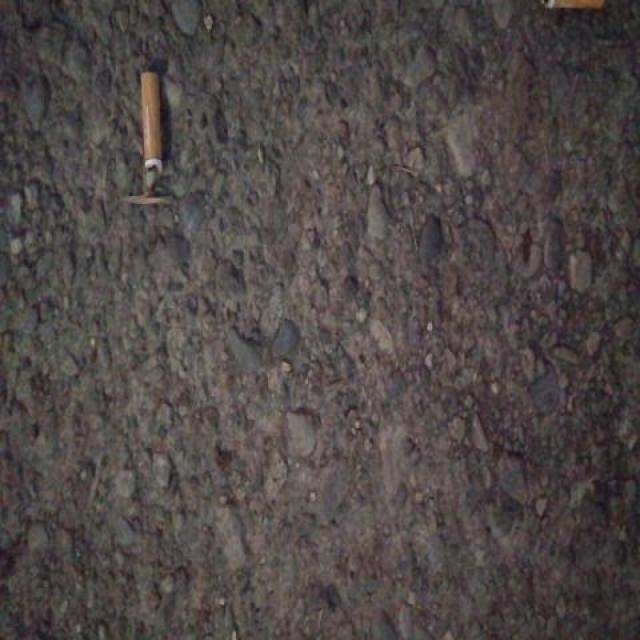non-organic waste: (138, 66, 166, 198)
